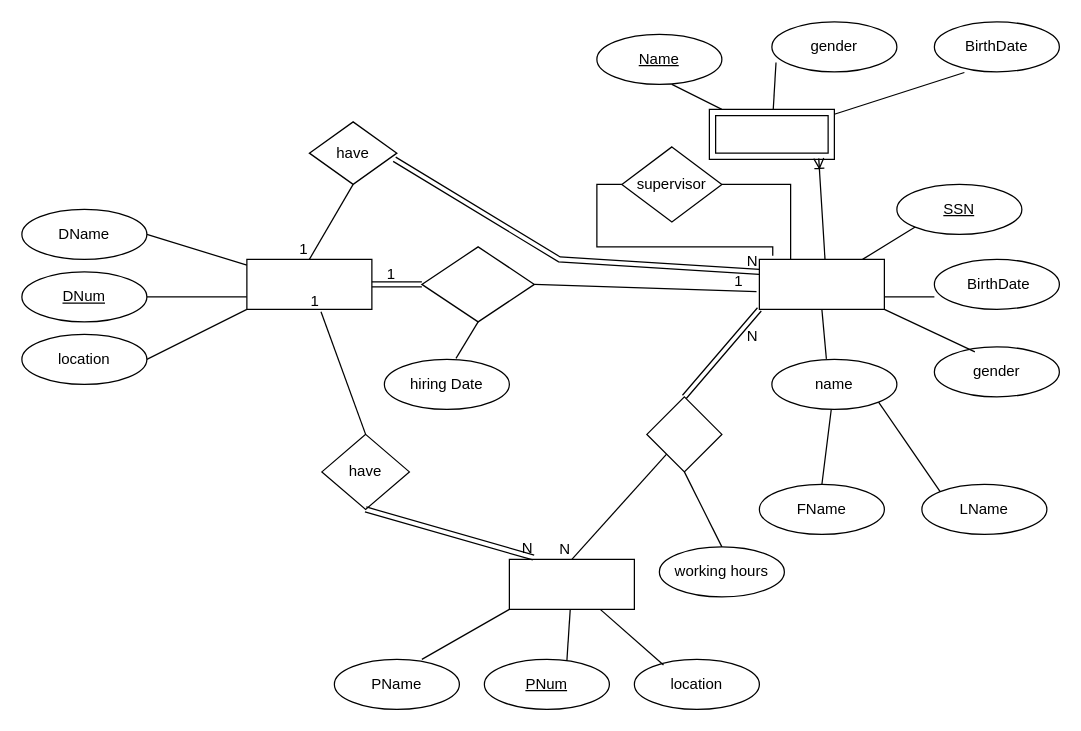
Some shapes in this 1081 by 731 pixel diagram are drawn without their labels. Each missing label, with the centre of its shape:
Department: [309,283]
Dependent: [771,133]
Employee: [821,283]
manage: [477,284]
Project: [571,583]
work: [684,434]
